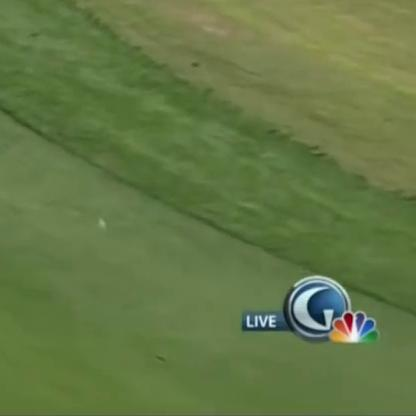golfball: (96, 215, 103, 226)
